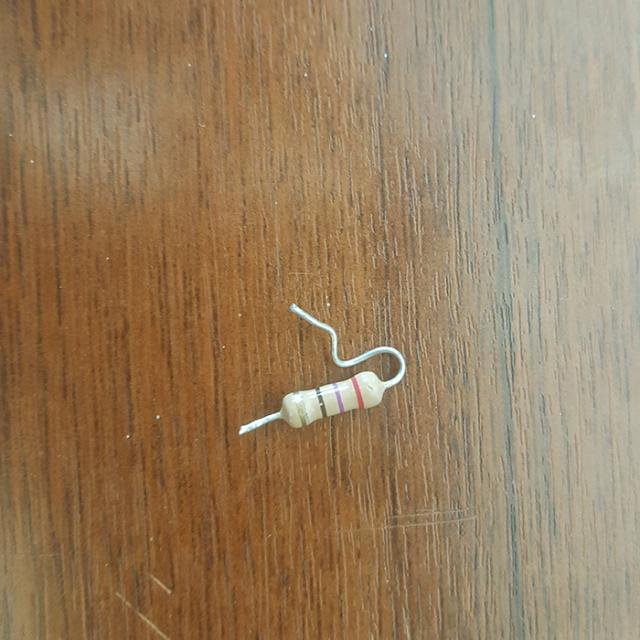black: (315, 388, 325, 415)
gold: (295, 392, 305, 424)
red: (352, 375, 364, 408)
resistor: (273, 362, 381, 442)
violet: (334, 383, 344, 411)
